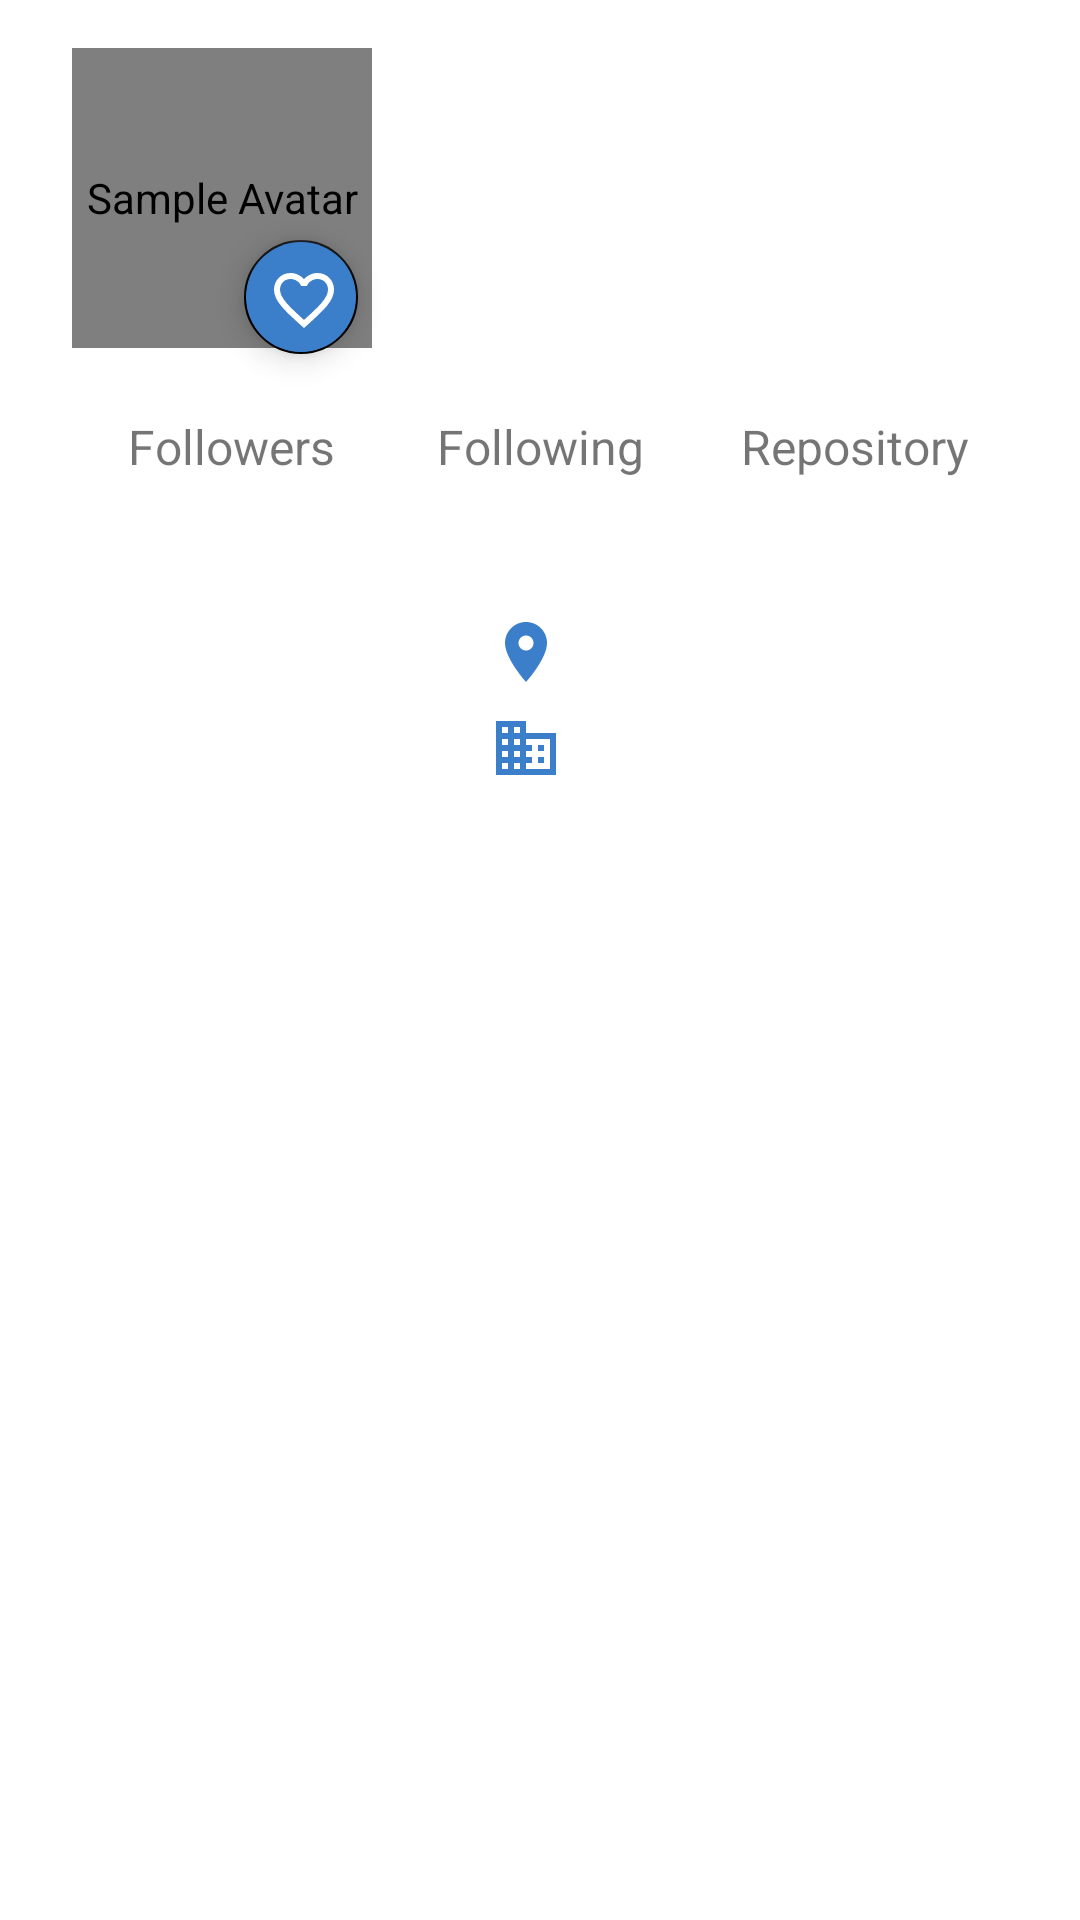

Named icons in this screenshot (1080×1920) and their centers, (x,y):
Favorite: (301,297)
